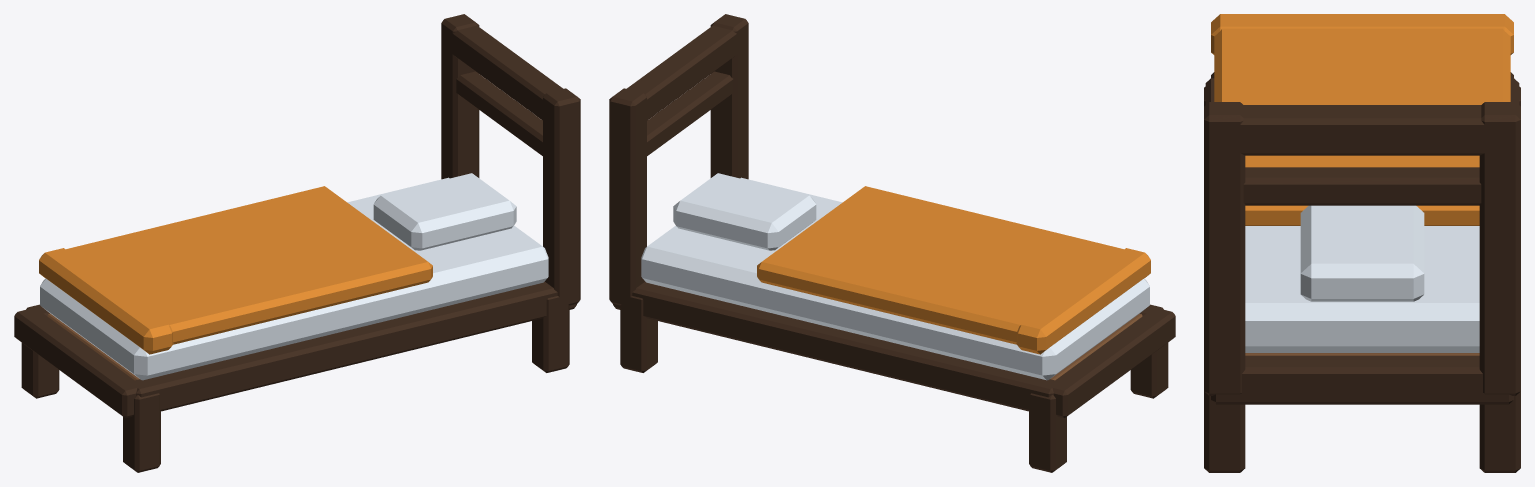
The model's file is Prop_Bed.fbx.
The picture shows the model from 3 angles, left to right: view 1: azimuth 30°, elevation 25°; view 2: azimuth 150°, elevation 25°; view 3: azimuth 270°, elevation 25°; orthographic projection. The views are drawn at different scales.
Visible parts, largest first — view 1: Prop_Bed; view 2: Prop_Bed; view 3: Prop_Bed.
Part boxes in pixels (x1=…): Prop_Bed: x1=14, y1=14, x2=580, y2=472; Prop_Bed: x1=609, y1=14, x2=1175, y2=472; Prop_Bed: x1=1204, y1=14, x2=1520, y2=472.
Bounding box in the file's own units: 208 × 117 × 92.
